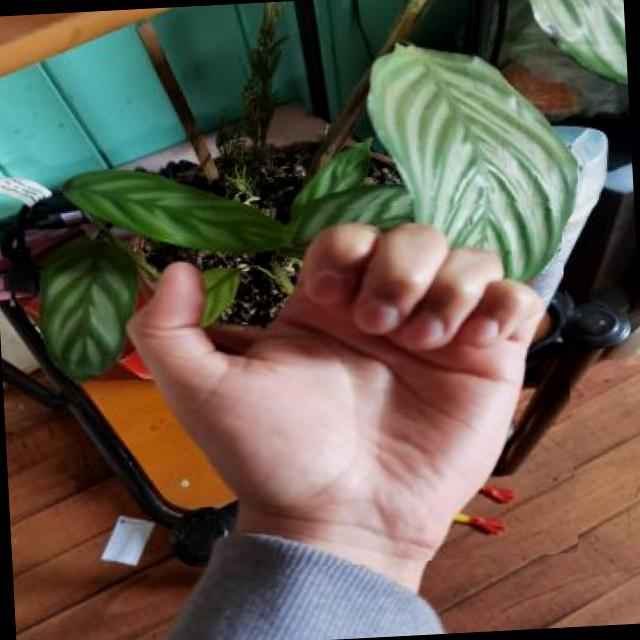E: (96, 193, 578, 577)
